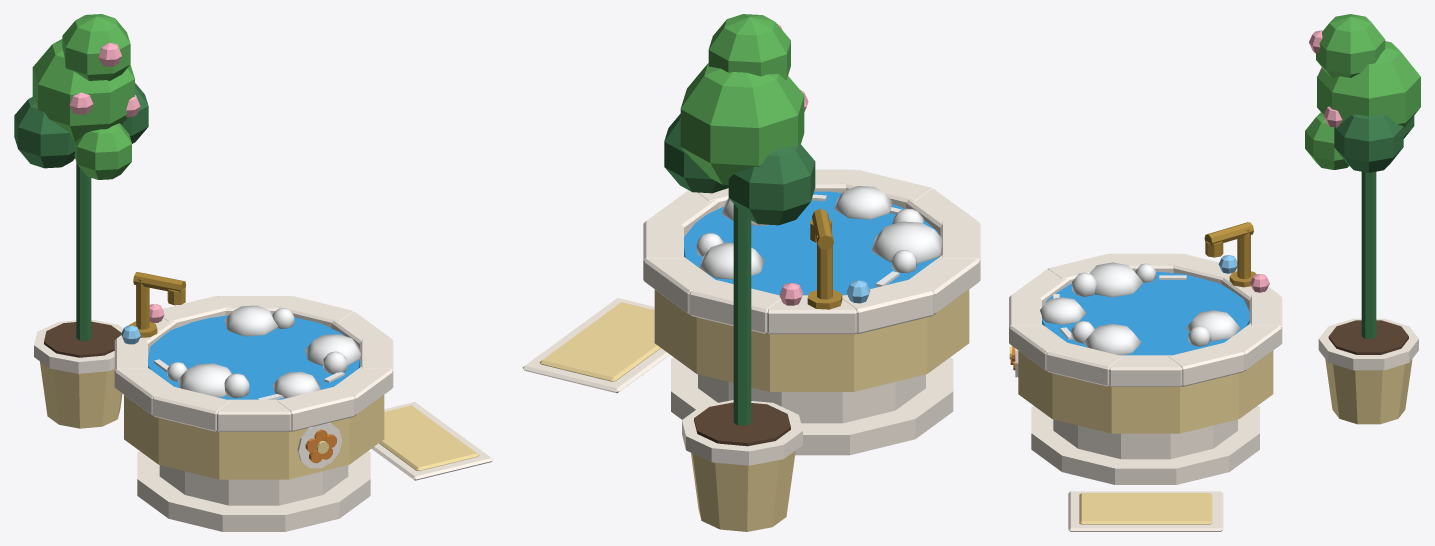
The model's file is CleanACat_Station_WashStandLou.fbx.
3 renders of one model, left to right at view 1: azimuth 30°, elevation 25°; view 2: azimuth 150°, elevation 25°; view 3: azimuth 270°, elevation 25°, orthographic. The views are drawn at different scales.
Visible parts, largest first — view 1: CleanACat_Station_WashStandLou, CleanACat_Station_WashStandLou_Decor, CleanACat_Station_WashStandLou_Water, CleanACat_Station_WashStandLou_Foam; view 2: CleanACat_Station_WashStandLou, CleanACat_Station_WashStandLou_Decor, CleanACat_Station_WashStandLou_Water, CleanACat_Station_WashStandLou_Foam; view 3: CleanACat_Station_WashStandLou, CleanACat_Station_WashStandLou_Decor, CleanACat_Station_WashStandLou_Water, CleanACat_Station_WashStandLou_Foam.
Boxes of the visible parts, x1,y1,x2,y2 form: CleanACat_Station_WashStandLou: (34, 163, 493, 531); CleanACat_Station_WashStandLou_Decor: (14, 14, 148, 179); CleanACat_Station_WashStandLou_Water: (148, 315, 359, 399); CleanACat_Station_WashStandLou_Foam: (167, 305, 360, 398); CleanACat_Station_WashStandLou: (522, 169, 980, 531); CleanACat_Station_WashStandLou_Decor: (664, 14, 815, 225); CleanACat_Station_WashStandLou_Water: (684, 191, 940, 295); CleanACat_Station_WashStandLou_Foam: (696, 186, 942, 279); CleanACat_Station_WashStandLou: (1009, 171, 1418, 531); CleanACat_Station_WashStandLou_Decor: (1305, 14, 1420, 172); CleanACat_Station_WashStandLou_Water: (1042, 271, 1249, 355); CleanACat_Station_WashStandLou_Foam: (1040, 262, 1240, 355).
Bounding box in the file's own units: 5.4 × 6.45 × 6.1.
Materials: 1 (1 with a texture image).
